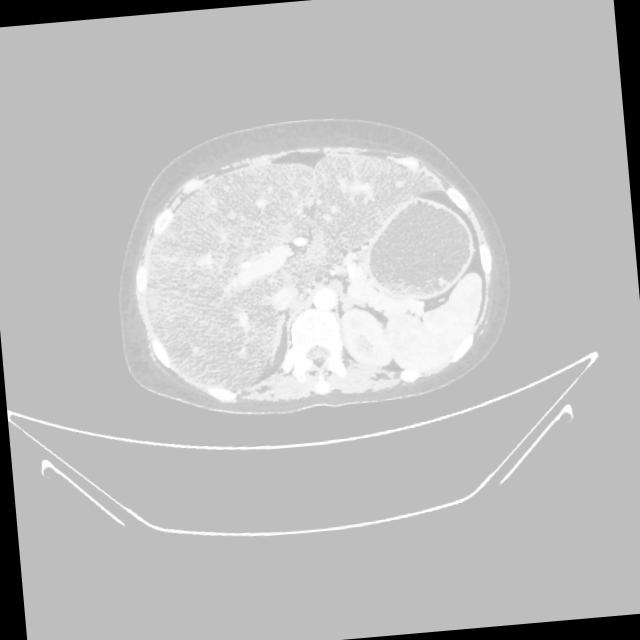NORMAL: (91, 102, 559, 425)
